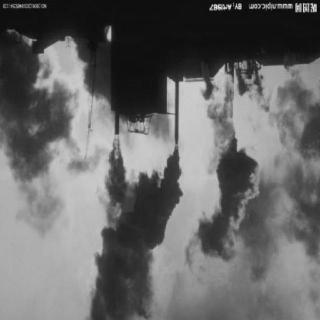Smoke: (83, 146, 187, 320), (196, 147, 260, 263), (283, 117, 319, 259)
